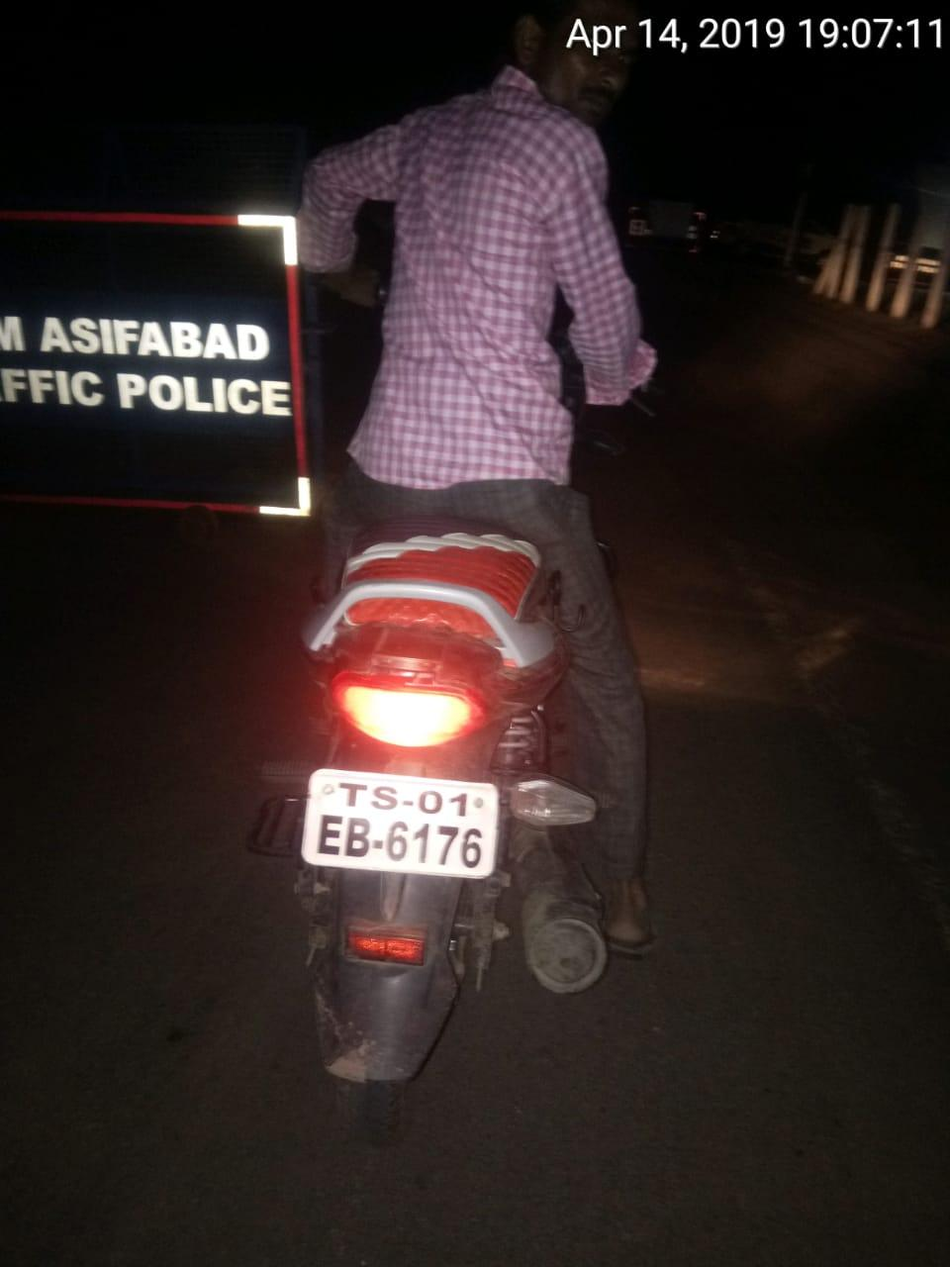plate: (285, 748, 517, 909)
